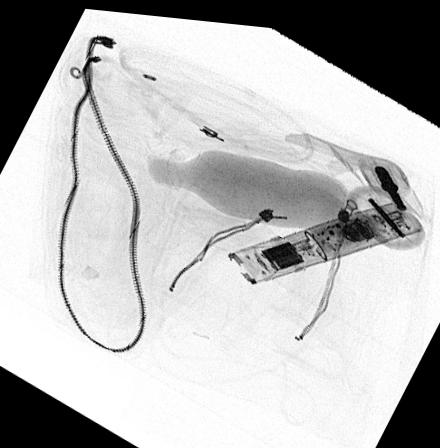Baton: (227, 193, 425, 281)
